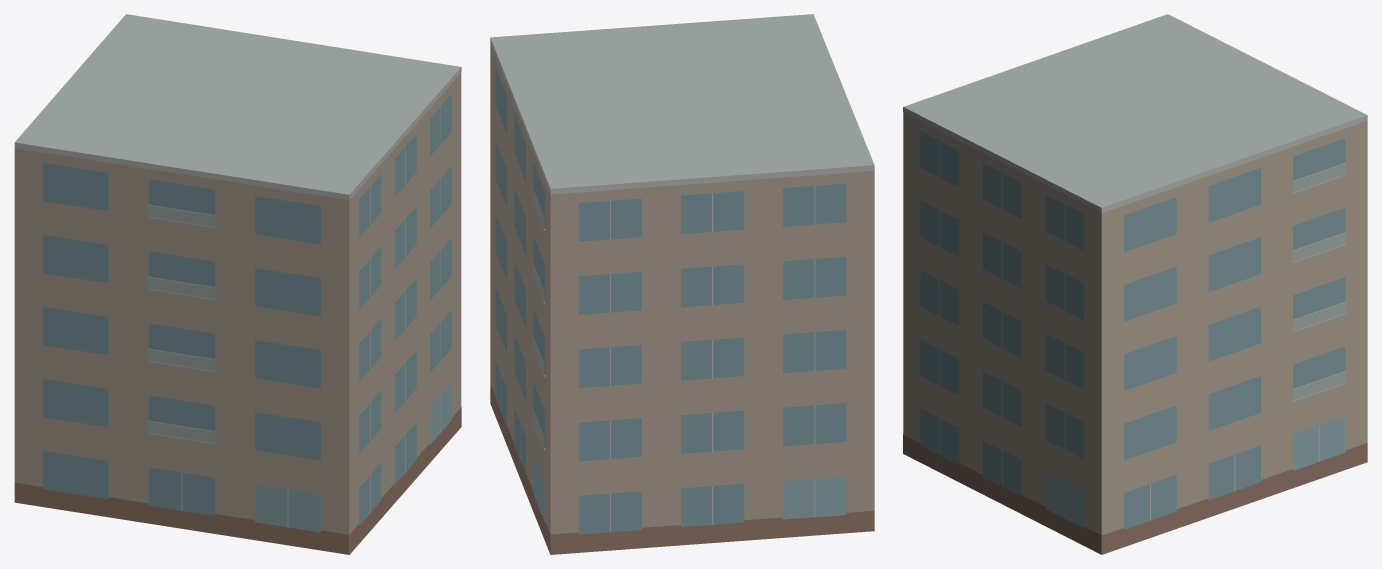
Rendered from survey-upis-33008529.glb.
3 renders of one model, left to right at view 1: azimuth 30°, elevation 25°; view 2: azimuth 150°, elevation 25°; view 3: azimuth 270°, elevation 25°, orthographic. The views are drawn at different scales.
Parts seen in each view (by area): view 1: survey-upis-33008529.tmp; view 2: survey-upis-33008529.tmp; view 3: survey-upis-33008529.tmp.
Part boxes in pixels (box(x1,y1,x2,y2)): survey-upis-33008529.tmp: box(14, 14, 461, 554); survey-upis-33008529.tmp: box(490, 14, 874, 554); survey-upis-33008529.tmp: box(903, 14, 1367, 554).
Size of the model in its own units: 18.95 by 15.8 by 19.18.
